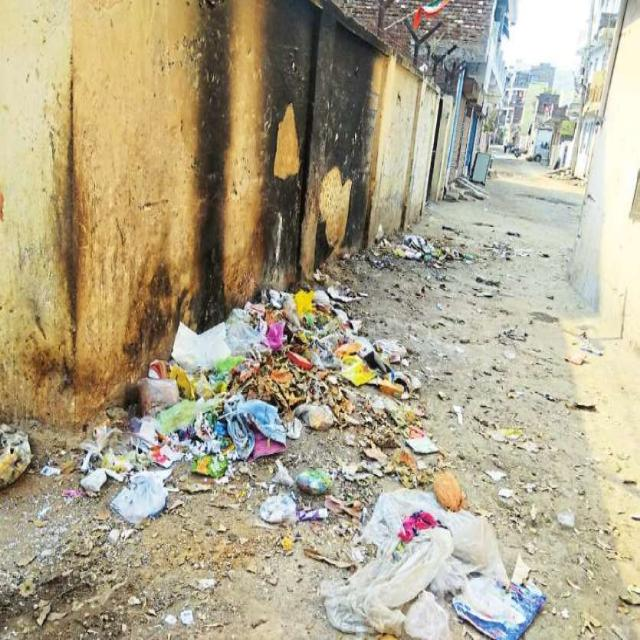garbage: (1, 203, 640, 635)
